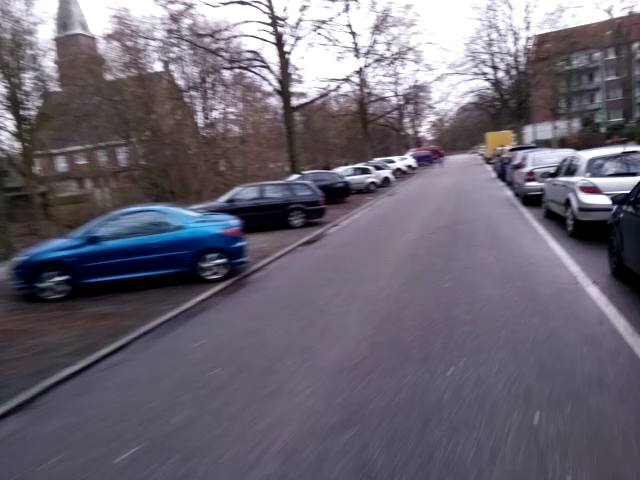car: (9, 195, 249, 317)
